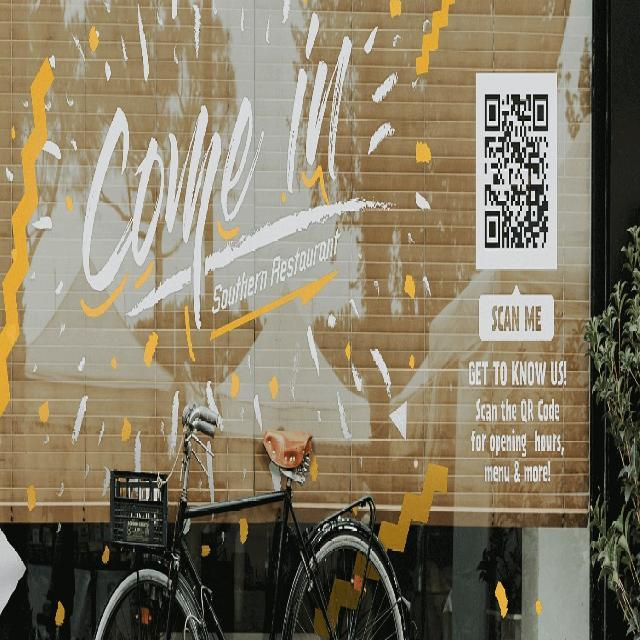qr_code: (484, 94, 548, 249)
